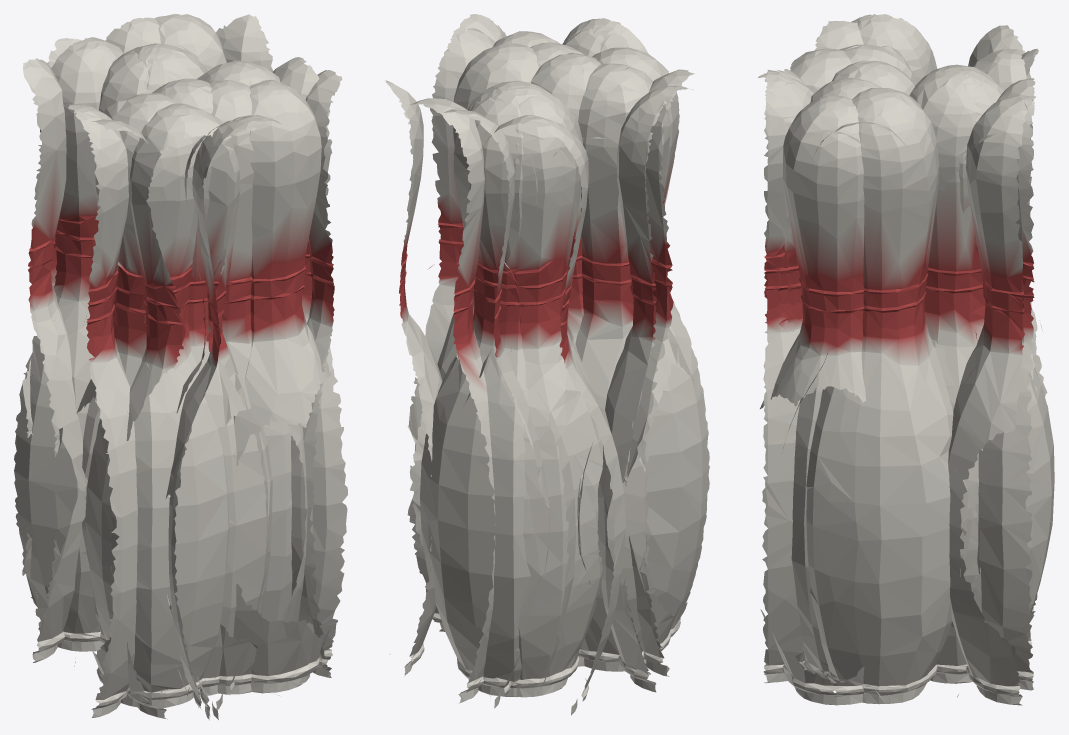
The model's file is pins_rig.glb.
3 renders of one model, left to right at view 1: azimuth 30°, elevation 25°; view 2: azimuth 150°, elevation 25°; view 3: azimuth 270°, elevation 25°, orthographic.
Visible parts, largest first — view 1: pin8, pin5, pin6, pin2, pin7, pin3, pin4, pin9, pin0; view 2: pin1, pin0, pin5, pin8, pin2, pin6, pin3, pin7, pin4, pin9; view 3: pin2, pin6, pin9, pin7, pin4, pin1, pin8, pin5, pin3.
Boxes of the visible parts, left/top/right/bottom form: pin8: left=14, top=14, right=342, bottom=719; pin5: left=47, top=38, right=347, bottom=708; pin6: left=23, top=14, right=331, bottom=695; pin2: left=22, top=60, right=292, bottom=717; pin7: left=105, top=17, right=312, bottom=694; pin3: left=96, top=78, right=272, bottom=696; pin4: left=134, top=43, right=250, bottom=720; pin9: left=134, top=44, right=281, bottom=719; pin0: left=82, top=51, right=232, bottom=707; pin1: left=420, top=22, right=622, bottom=697; pin0: left=409, top=33, right=631, bottom=697; pin5: left=407, top=28, right=694, bottom=671; pin8: left=385, top=14, right=709, bottom=715; pin2: left=414, top=43, right=692, bottom=692; pin6: left=389, top=31, right=694, bottom=703; pin3: left=504, top=52, right=600, bottom=695; pin7: left=429, top=42, right=584, bottom=708; pin4: left=425, top=26, right=647, bottom=532; pin9: left=425, top=18, right=648, bottom=457; pin2: left=806, top=14, right=967, bottom=704; pin6: left=760, top=21, right=1048, bottom=705; pin9: left=762, top=67, right=983, bottom=683; pin7: left=791, top=77, right=1035, bottom=690; pin4: left=776, top=66, right=985, bottom=627; pin1: left=758, top=72, right=1054, bottom=669; pin8: left=790, top=48, right=1040, bottom=698; pin5: left=783, top=44, right=1038, bottom=690; pin3: left=831, top=60, right=915, bottom=95.
Bounding box in the file's own units: 0.7445 × 1.66 × 0.753.
